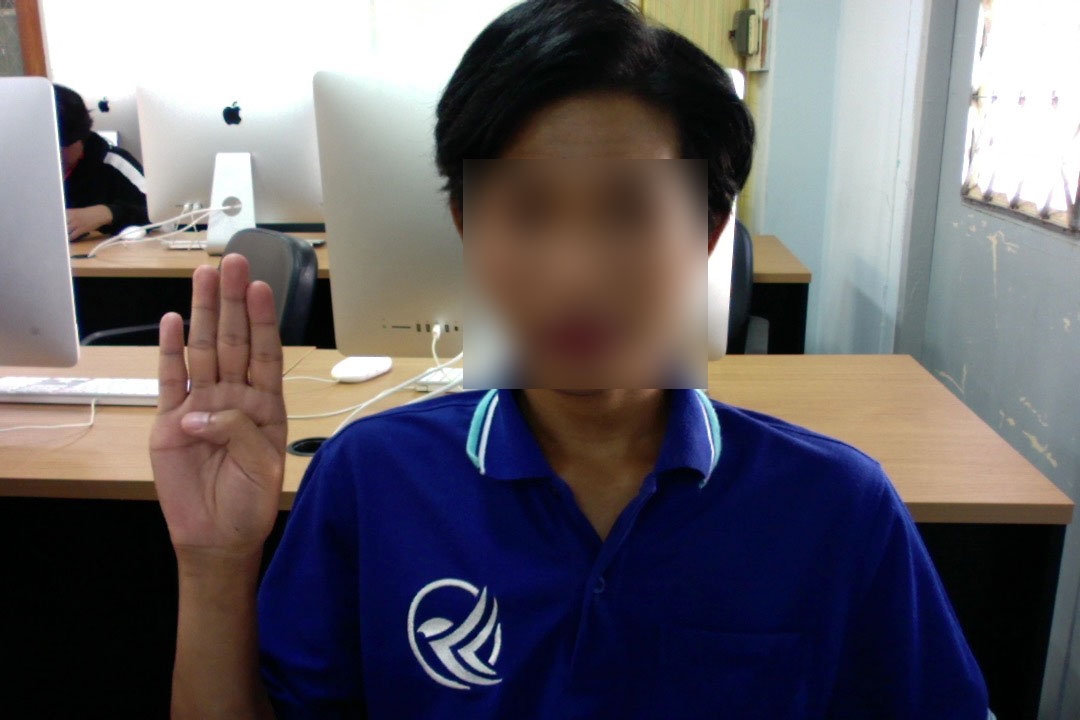bor: (141, 245, 292, 569)
